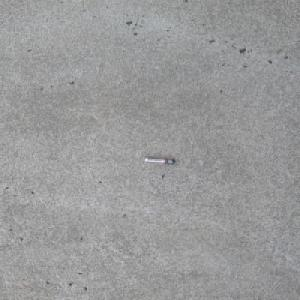Battery: (144, 157, 175, 164)
